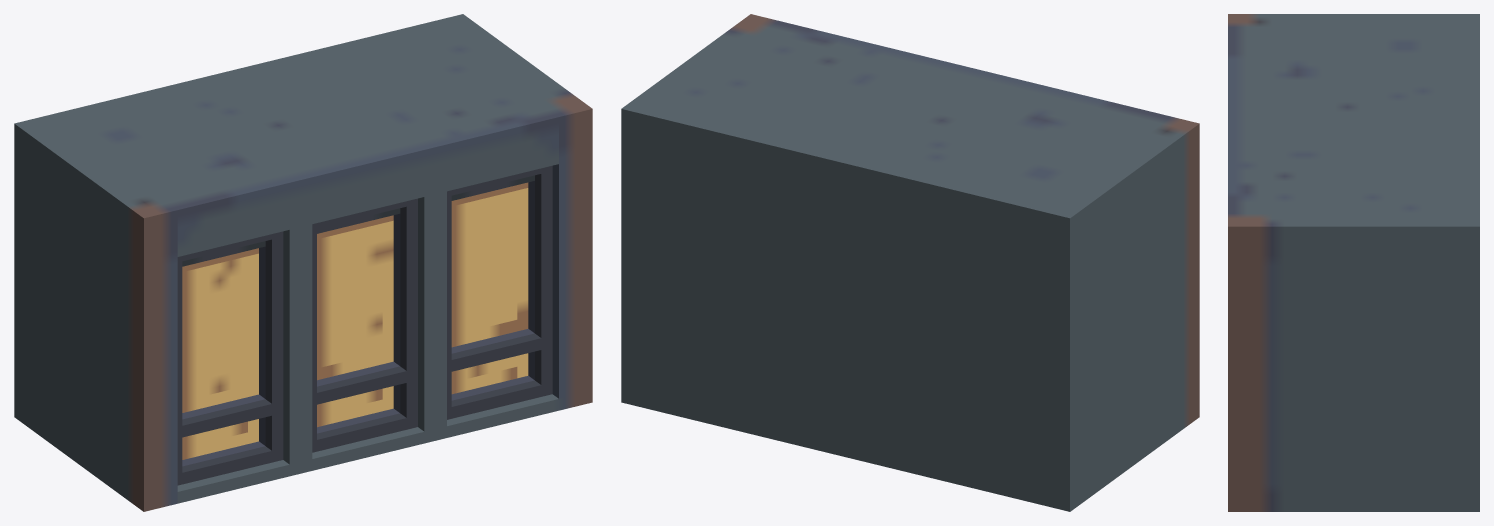
The model's file is BuildingBlock-6.fbx.
3 renders of one model, left to right at view 1: azimuth 30°, elevation 25°; view 2: azimuth 150°, elevation 25°; view 3: azimuth 270°, elevation 25°, orthographic. The views are drawn at different scales.
Parts seen in each view (by area): view 1: BuildingBlock_6; view 2: BuildingBlock_6; view 3: BuildingBlock_6.
Boxes of the visible parts, x1,y1,x2,y2 form: BuildingBlock_6: (14,14,592,511); BuildingBlock_6: (621,14,1199,511); BuildingBlock_6: (1228,14,1479,511).
Size of the model in its own units: 400 by 250 by 200.
Materials: 2 (2 with a texture image).
